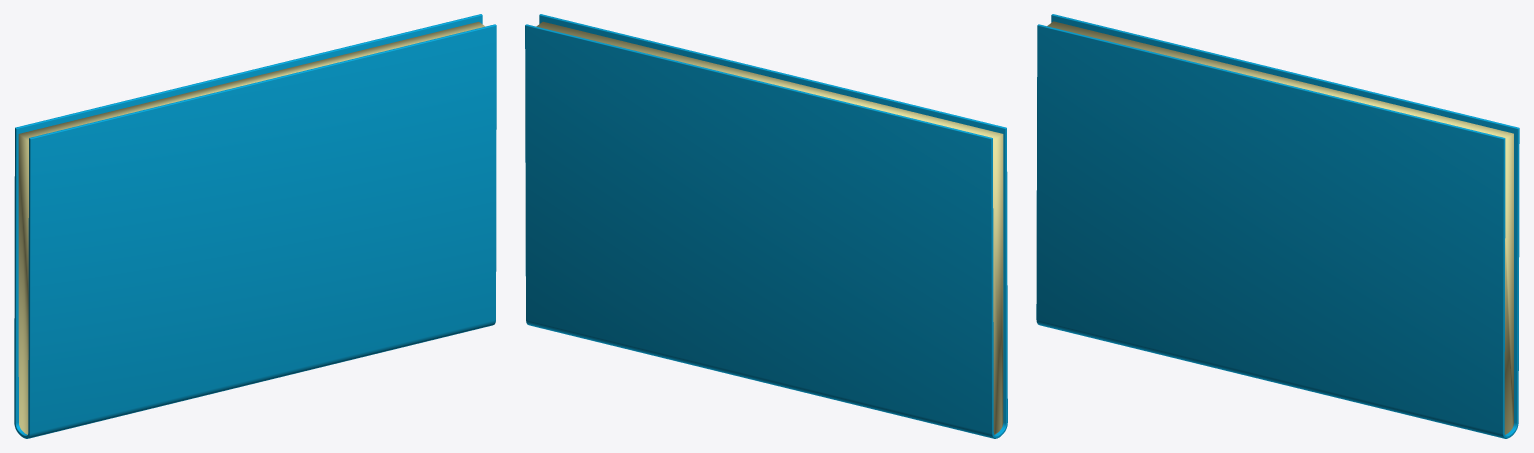
The model's file is closedbookV2.fbx.
The picture shows the model from 3 angles, left to right: view 1: azimuth 30°, elevation 25°; view 2: azimuth 150°, elevation 25°; view 3: azimuth 330°, elevation 25°; orthographic projection.
Parts seen in each view (by area): view 1: Cube.003, Plane; view 2: Cube.003, Plane; view 3: Cube.003, Plane.
Part boxes in pixels (x1,y1,x2,y2): Cube.003: (14,14,496,438); Plane: (18,21,485,434); Cube.003: (525,14,1007,438); Plane: (536,21,1003,434); Cube.003: (1036,14,1519,438); Plane: (1047,21,1513,434).
Bounding box in the file's own units: 168 × 104 × 9.8.
